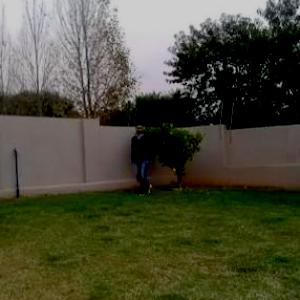follow: (133, 122, 152, 198)
